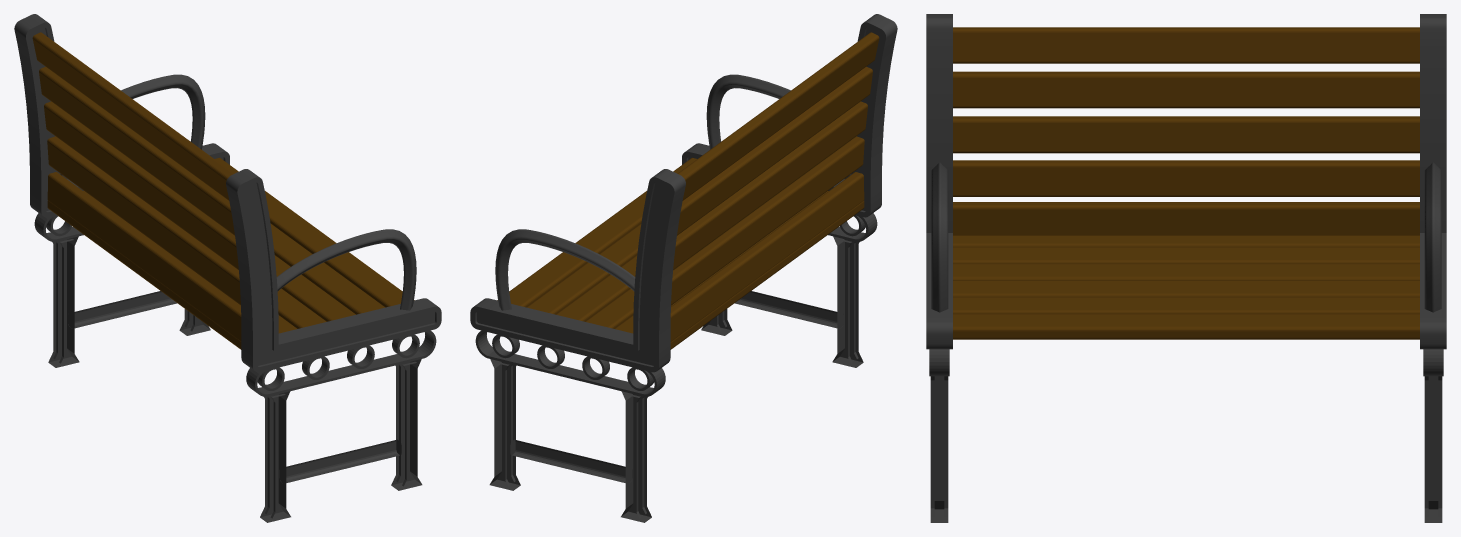
Rendered from chair.fbx.
The picture shows the model from 3 angles, left to right: view 1: azimuth 30°, elevation 25°; view 2: azimuth 150°, elevation 25°; view 3: azimuth 270°, elevation 25°; orthographic projection. The views are drawn at different scales.
Visible parts, largest first — view 1: 贝塞尔曲线; view 2: 贝塞尔曲线; view 3: 贝塞尔曲线.
Boxes of the visible parts, x1,y1,x2,y2 form: 贝塞尔曲线: (14, 14, 441, 522); 贝塞尔曲线: (470, 14, 897, 522); 贝塞尔曲线: (926, 14, 1446, 522).
Size of the model in its own units: 225 by 368 by 425.
